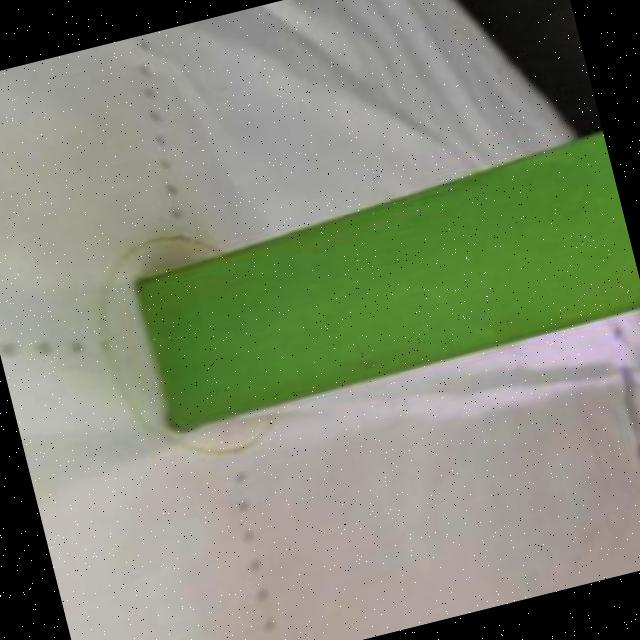greenbox: (123, 129, 640, 436)
